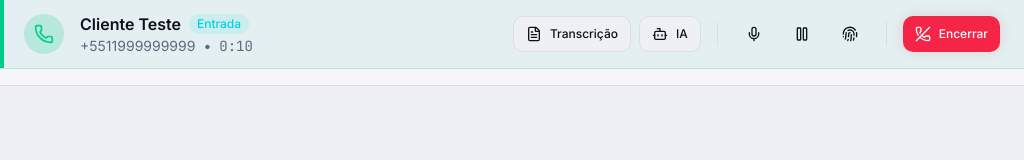
ActiveCallBar: verificacao de voz ao vivo (etapa 155) › verifica a voz da sessao ativa e mostra o veredito na barra
Step 1. Click the button named "Verificar a voz do cliente nesta chamada" → point(850, 34), box [830,14,870,54]
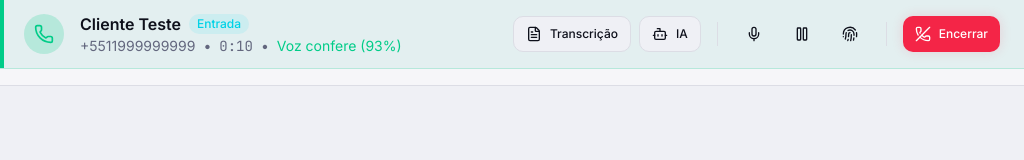
expect the text "Voz confere (93%)" is shown: met, box [277,36,402,56]
